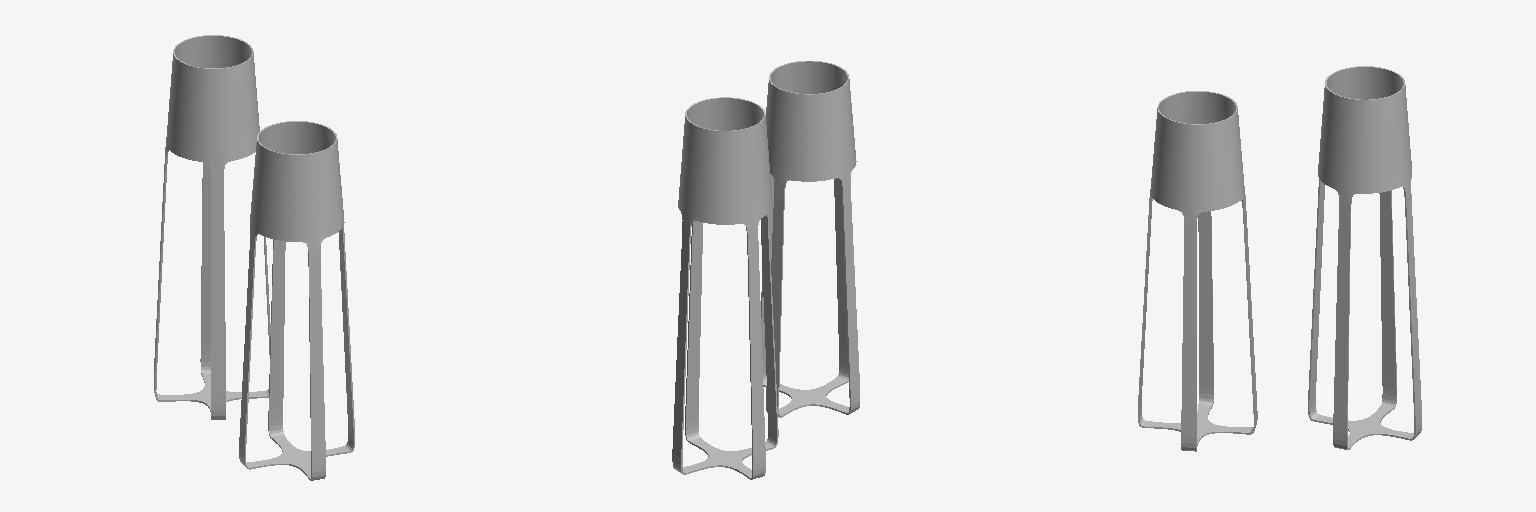
Rendered from Floor lamp.obj.
3 renders of one model, left to right at view 1: azimuth 30°, elevation 25°; view 2: azimuth 150°, elevation 25°; view 3: azimuth 270°, elevation 25°, orthographic.
Visible parts, largest first — view 1: Cylinder669, Cylinder668; view 2: Cylinder668, Cylinder669; view 3: Cylinder668, Cylinder669.
Boxes of the visible parts, <box> form: Cylinder669: <box>239,121,354,480</box>; Cylinder668: <box>154,35,270,419</box>; Cylinder668: <box>672,97,778,479</box>; Cylinder669: <box>761,61,859,417</box>; Cylinder668: <box>1308,66,1421,449</box>; Cylinder669: <box>1138,91,1257,451</box>.
Size of the model in its own units: 472 by 1503 by 1121.